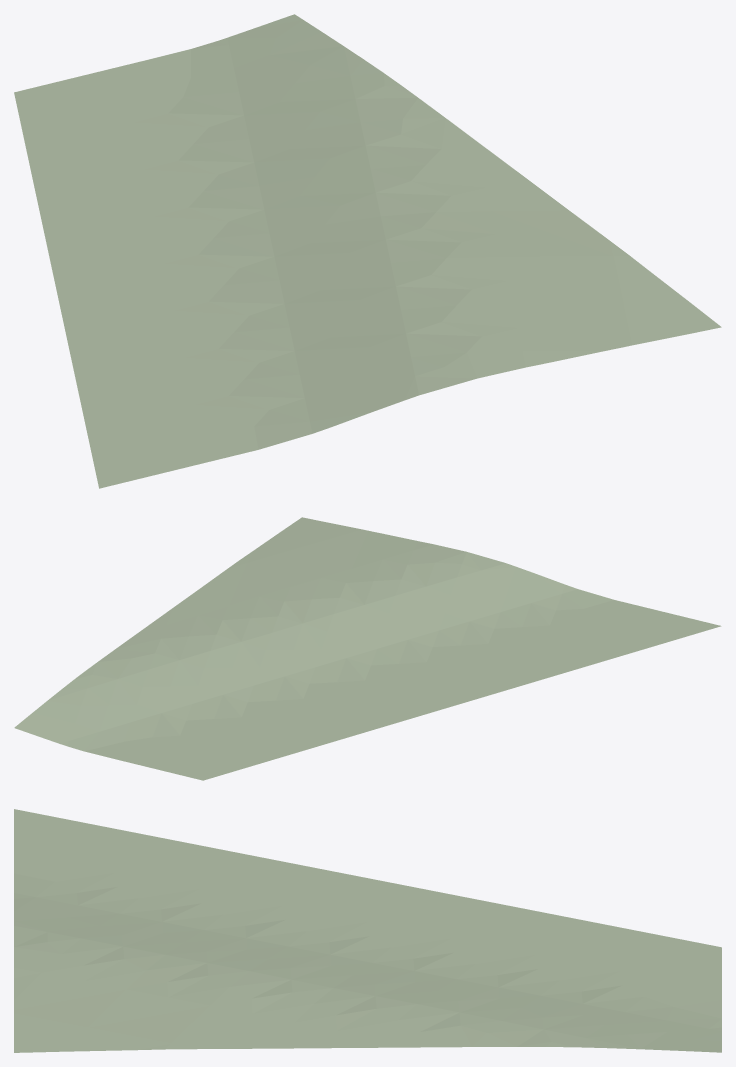
Rendered from SM_MPRR_Terrain_-3_4.fbx.
The picture shows the model from 3 angles, top to bottom: view 1: azimuth 30°, elevation 25°; view 2: azimuth 150°, elevation 25°; view 3: azimuth 270°, elevation 25°; orthographic projection. The views are drawn at different scales.
Visible parts, largest first — view 1: SM_MPRR_Terrain_-3_4; view 2: SM_MPRR_Terrain_-3_4; view 3: SM_MPRR_Terrain_-3_4.
Boxes of the visible parts, x1,y1,x2,y2 form: SM_MPRR_Terrain_-3_4: (14,14,721,488); SM_MPRR_Terrain_-3_4: (14,517,721,780); SM_MPRR_Terrain_-3_4: (14,809,721,1052).
Size of the model in its own units: 12622 by 15000 by 358.
